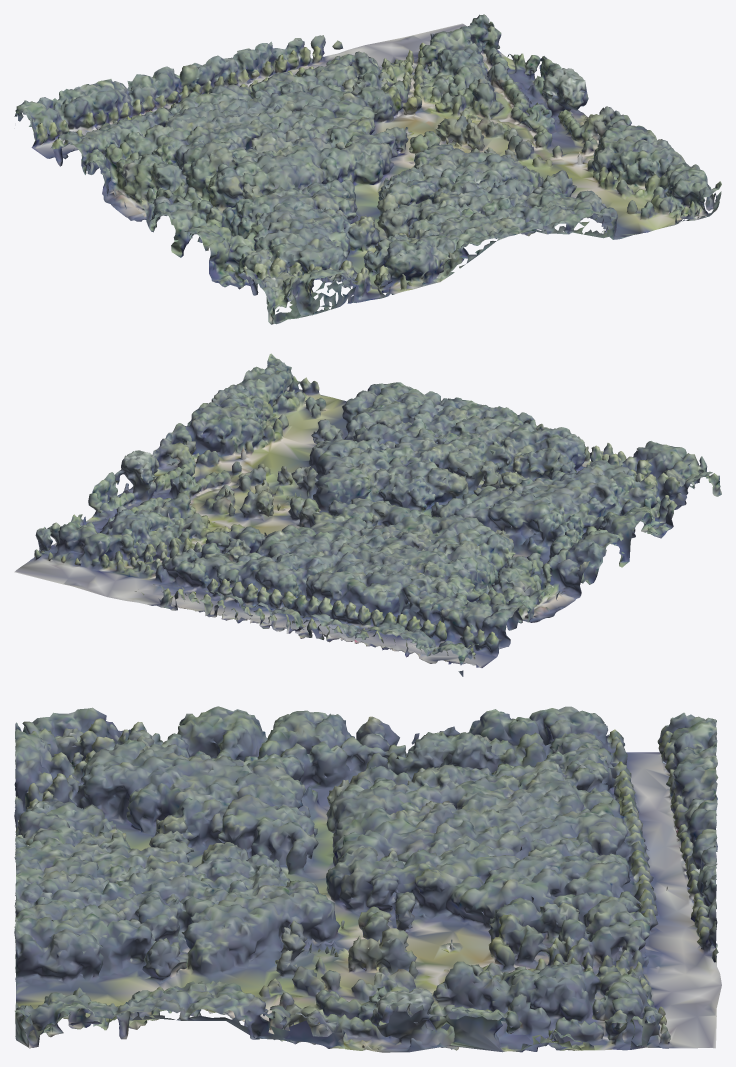
File: tile-3890_58193.glb
The picture shows the model from 3 angles, top to bottom: view 1: azimuth 30°, elevation 25°; view 2: azimuth 150°, elevation 25°; view 3: azimuth 270°, elevation 25°; orthographic projection. The views are drawn at different scales.
Visible parts, largest first — view 1: world; view 2: world; view 3: world.
Boxes of the visible parts, bbox=[...] form: world: bbox=[14, 14, 721, 324]; world: bbox=[14, 353, 721, 676]; world: bbox=[14, 706, 721, 1052].
Size of the model in its own units: 363 by 33.37 by 364.
